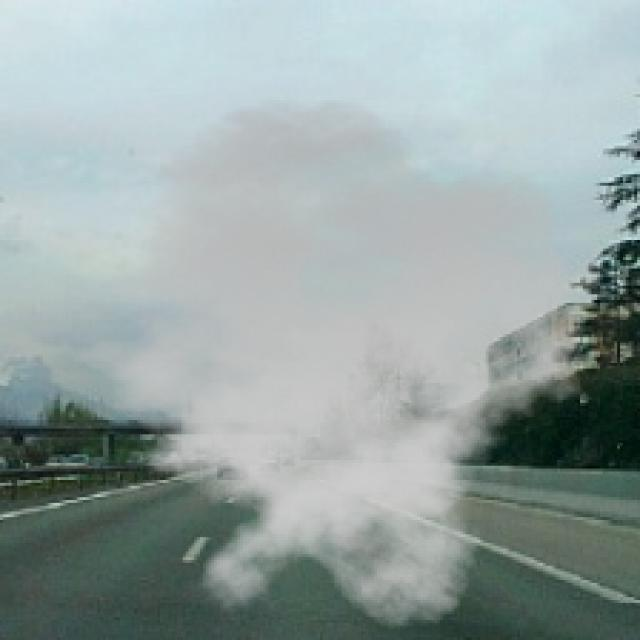Smoke: (48, 97, 618, 632)
